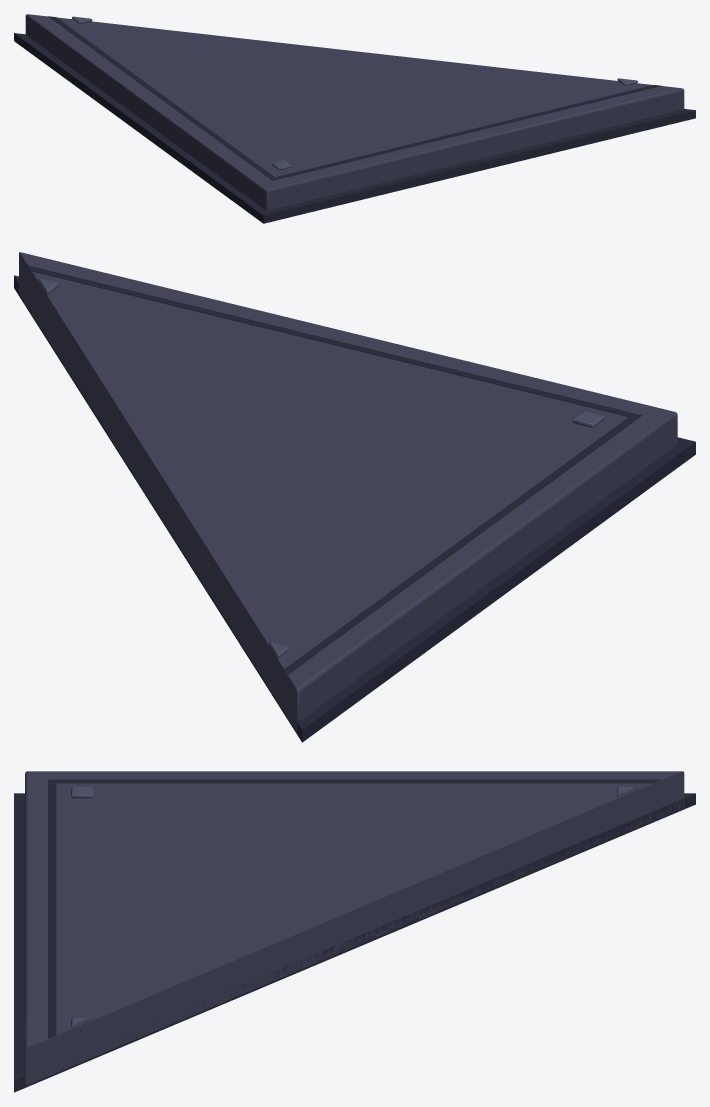
The model's file is floor.slope1.plate.glb.
3 renders of one model, top to bottom at view 1: azimuth 30°, elevation 25°; view 2: azimuth 150°, elevation 25°; view 3: azimuth 270°, elevation 25°, orthographic. The views are drawn at different scales.
Parts seen in each view (by area): view 1: GEO-floor.slope1.plate; view 2: GEO-floor.slope1.plate; view 3: GEO-floor.slope1.plate.
Part boxes in pixels (<box>): GEO-floor.slope1.plate: <box>14,14,695,223</box>; GEO-floor.slope1.plate: <box>14,252,695,742</box>; GEO-floor.slope1.plate: <box>14,771,695,1092</box>.
Size of the model in its own units: 1 by 0.069 by 1.
